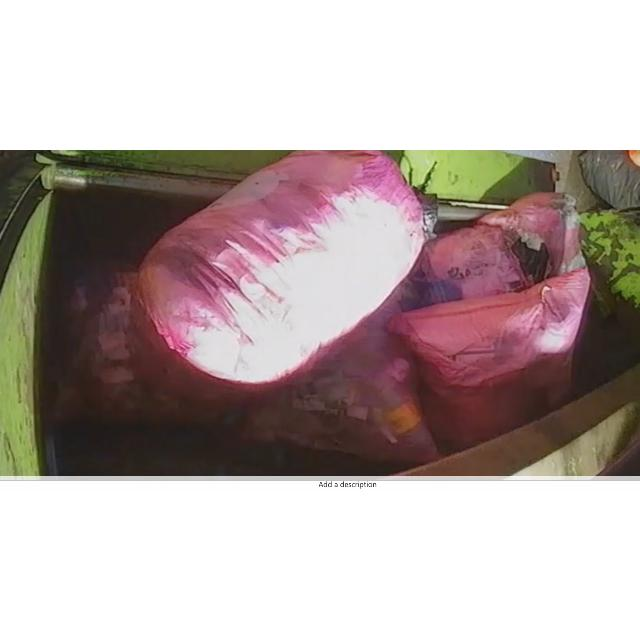other_trashbag: (139, 150, 425, 383), (390, 266, 590, 452), (405, 192, 585, 307)
